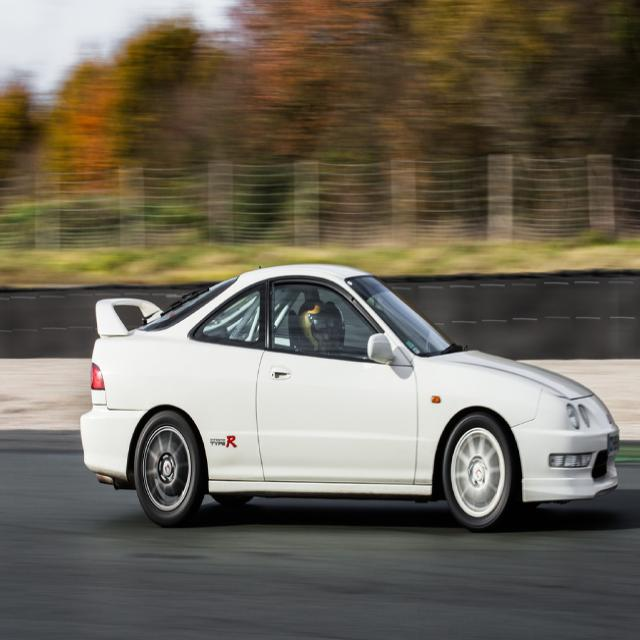car: (77, 261, 622, 535)
